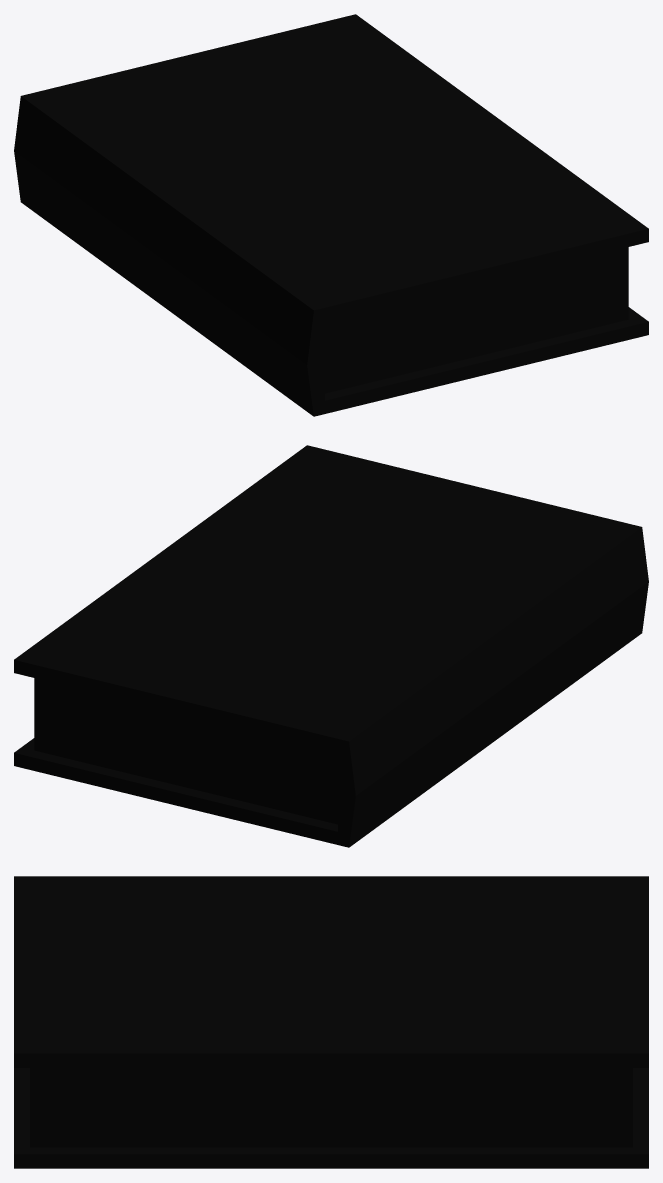
Rendered from SM_Book_3.obj.
3 views of the same model, one above another, from view 1: azimuth 30°, elevation 25°; view 2: azimuth 150°, elevation 25°; view 3: azimuth 270°, elevation 25° (orthographic). The views are drawn at different scales.
Visible parts, largest first — view 1: SM_Book_3_M_Texture_Atlas; view 2: SM_Book_3_M_Texture_Atlas; view 3: SM_Book_3_M_Texture_Atlas.
Part boxes in pixels (x1=…): SM_Book_3_M_Texture_Atlas: x1=14, y1=14, x2=648, y2=416; SM_Book_3_M_Texture_Atlas: x1=14, y1=445, x2=648, y2=847; SM_Book_3_M_Texture_Atlas: x1=14, y1=876, x2=648, y2=1168.
Size of the model in its own units: 0.3367 by 0.1 by 0.5.
Materials: 1 (1 with a texture image).
